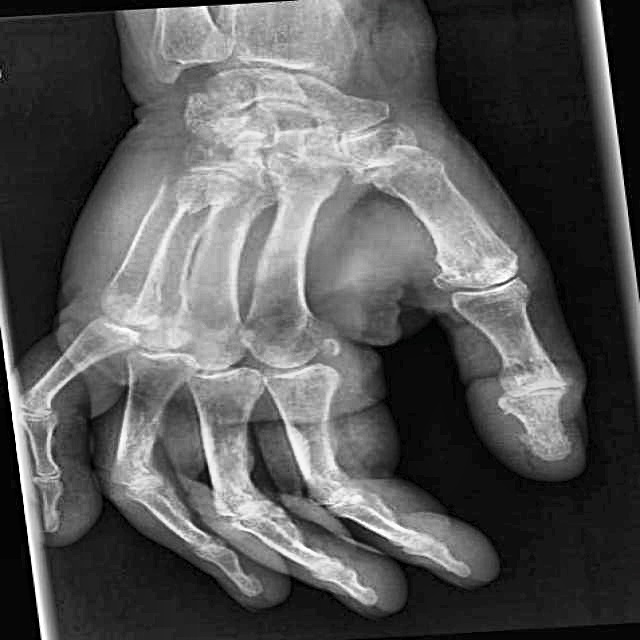Oblique Displaced: (146, 163, 212, 224)
